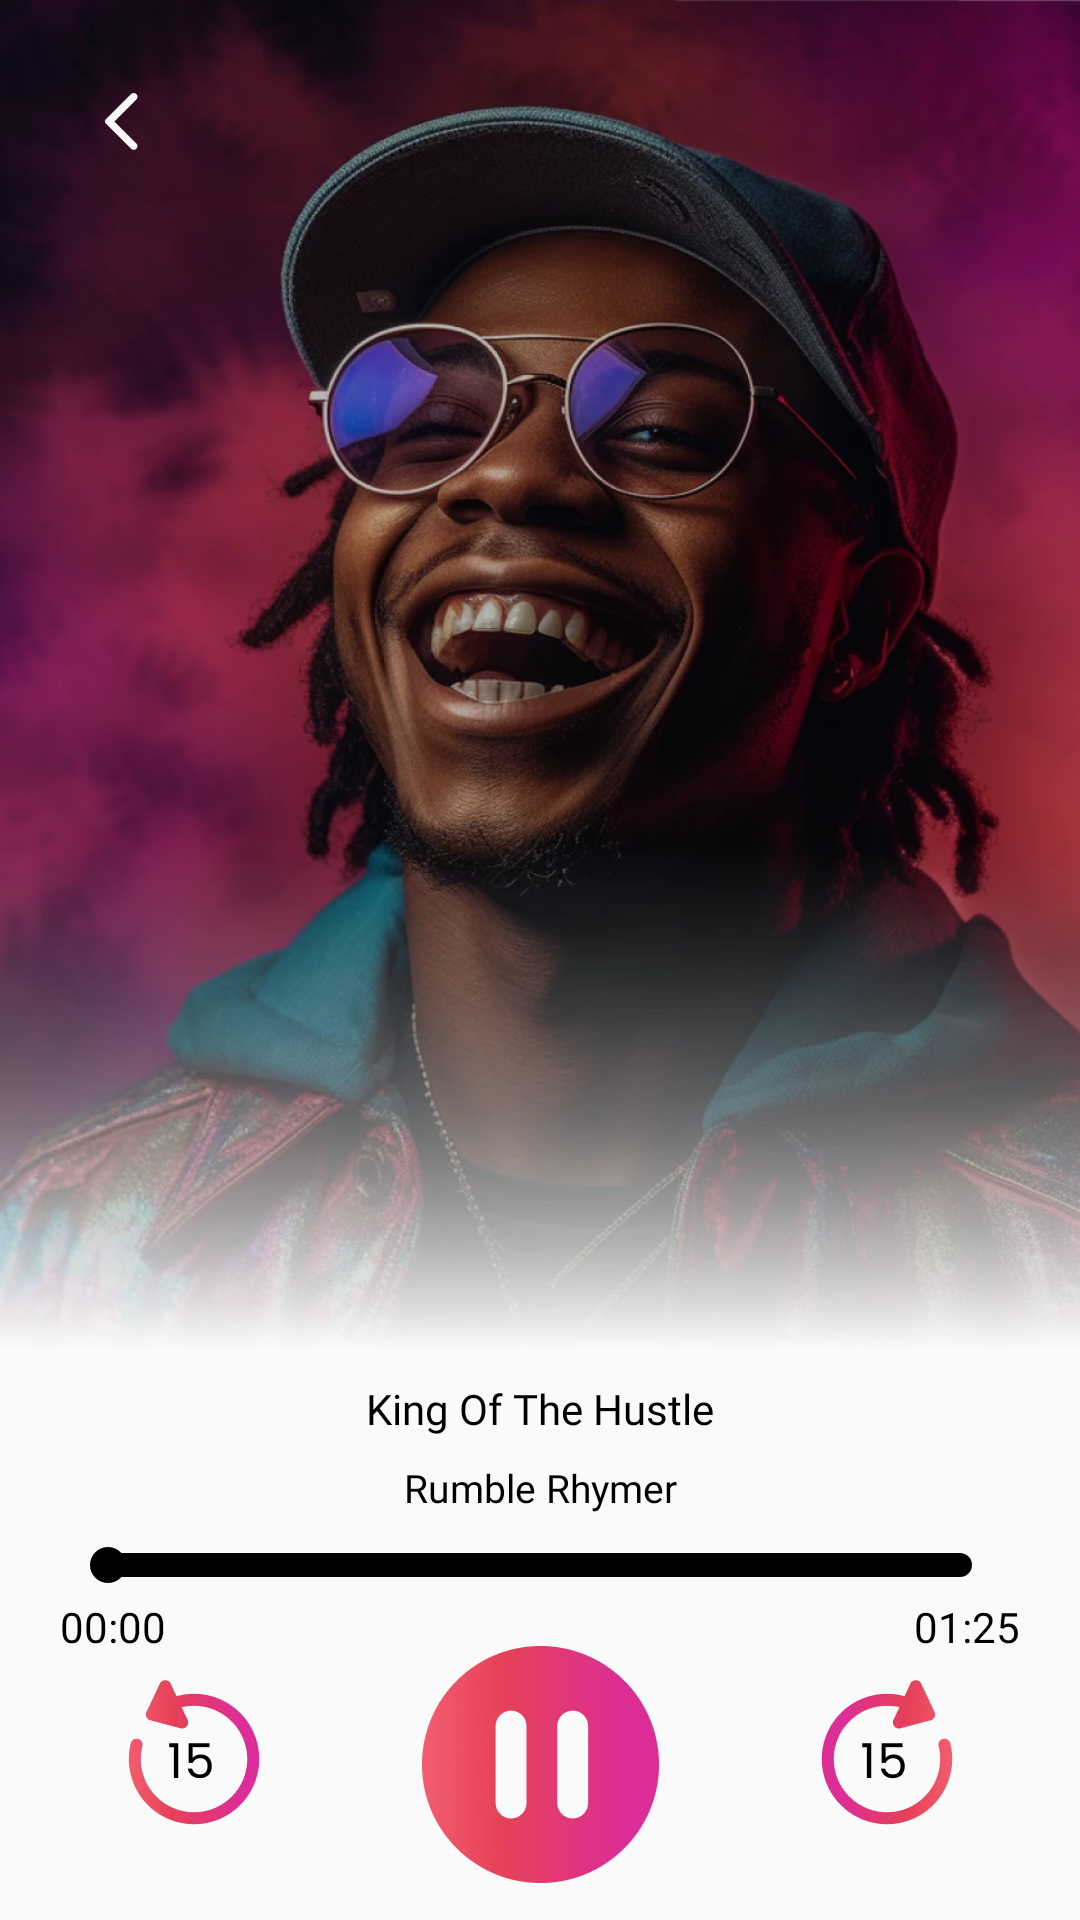

Screen size 1080w x 1920h. Icon name, then its center in pixels as (x,y):
backsong: (194,1752)
forwardsong: (886,1752)
pausesong: (540,1764)
